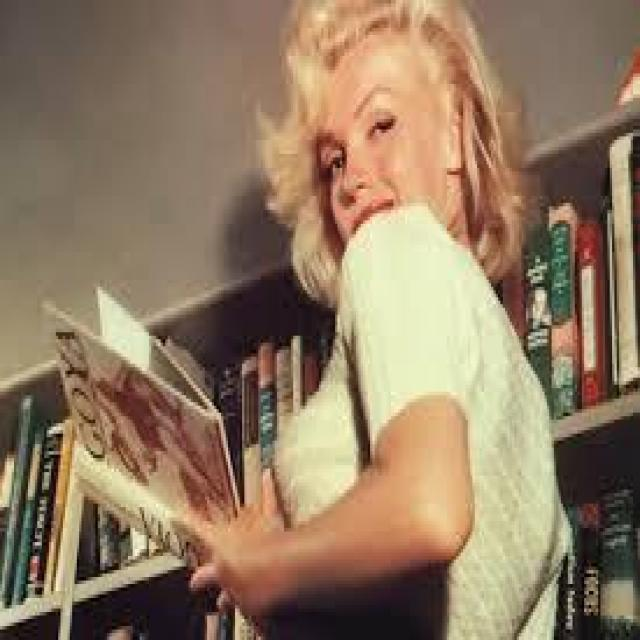person: (214, 0, 573, 637)
